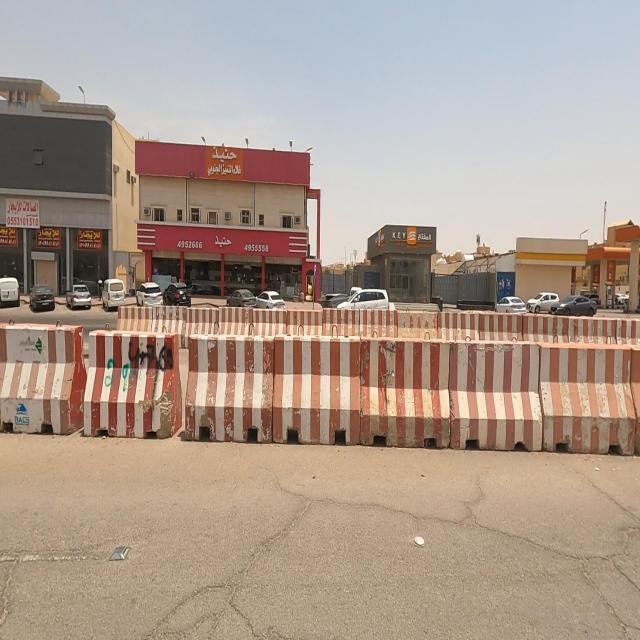Graffiti: (106, 345, 172, 393)
